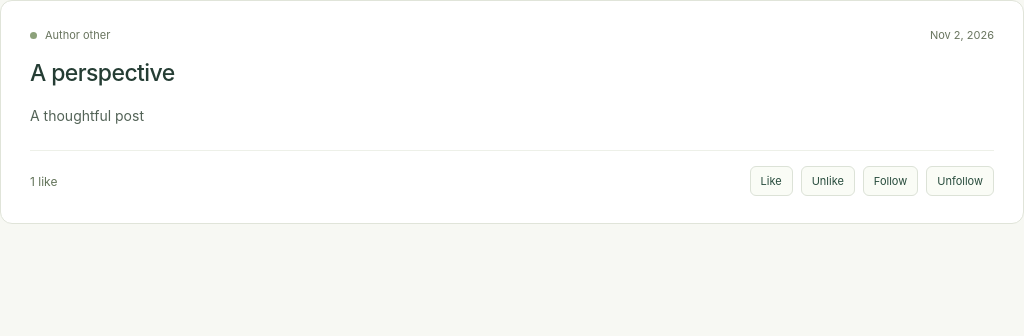
Test case: social-action failure shows error and expires unauthorized sessions
Step 1. Click the button "Like" → coordinates (771, 181), box [750,166,793,196]
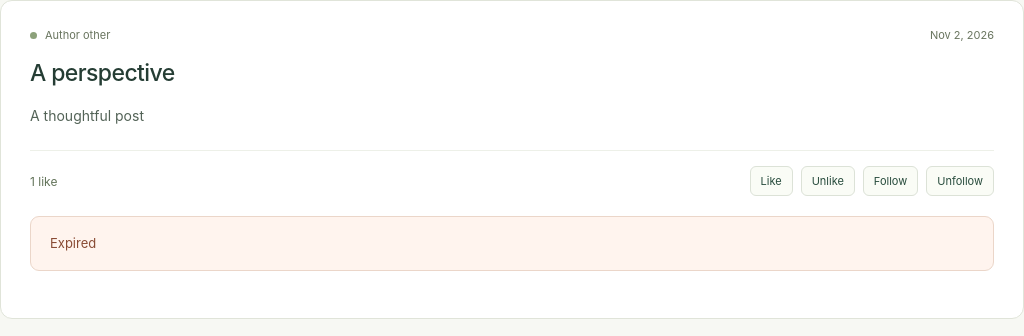
Check: the message reads "Expired", box [50,235,96,251]
